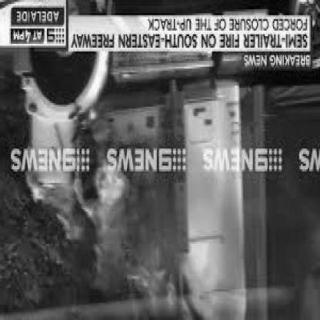Fire: (24, 110, 182, 317), (98, 4, 106, 20)
other: (6, 3, 318, 75), (266, 82, 320, 320)
